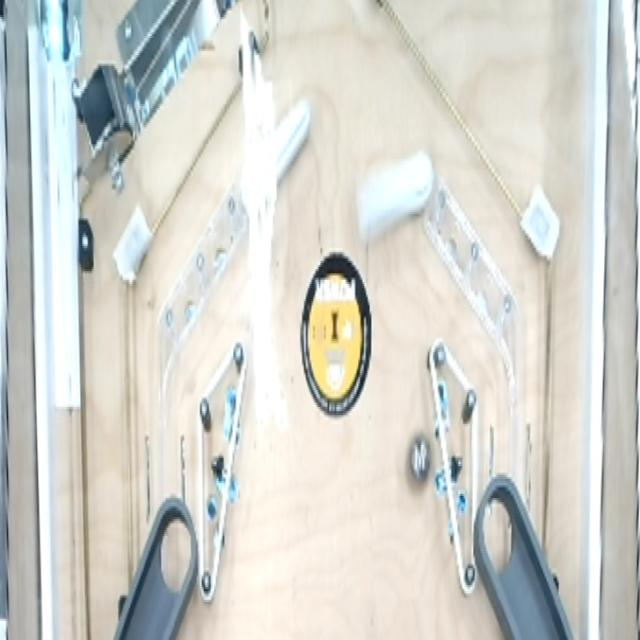ball: (406, 425, 432, 487)
flipper-left: (354, 148, 436, 244)
flipper-right: (236, 88, 312, 223)
